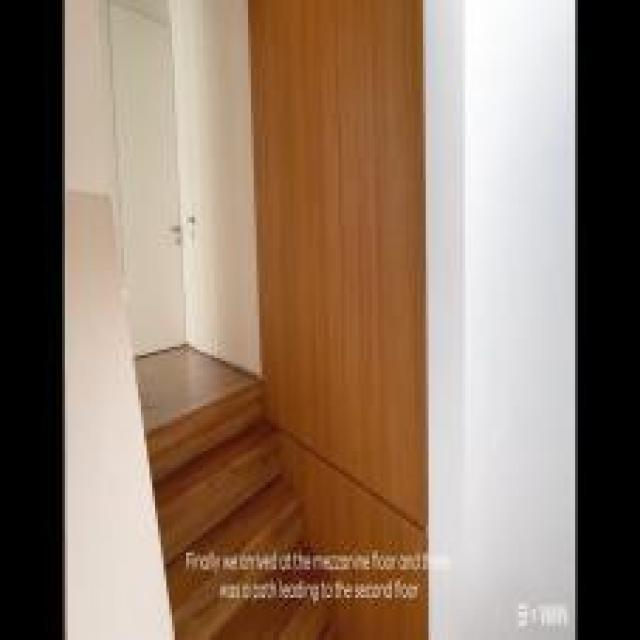upstair: (154, 385, 306, 638)
